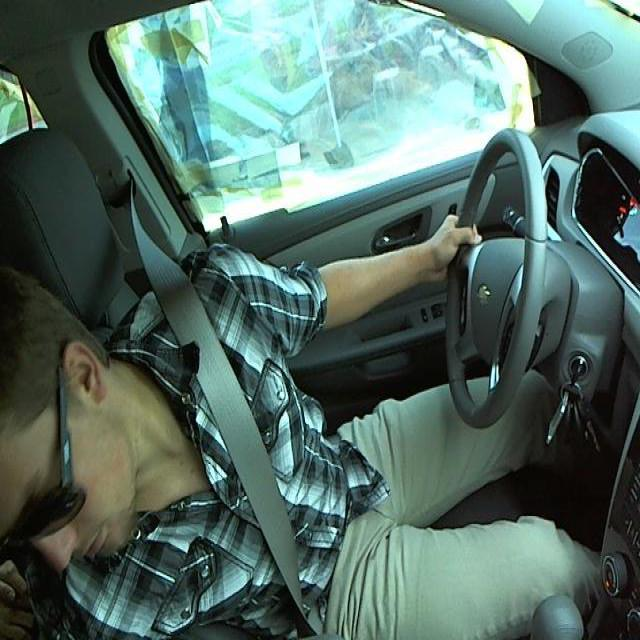seatbelt: (116, 185, 334, 638)
